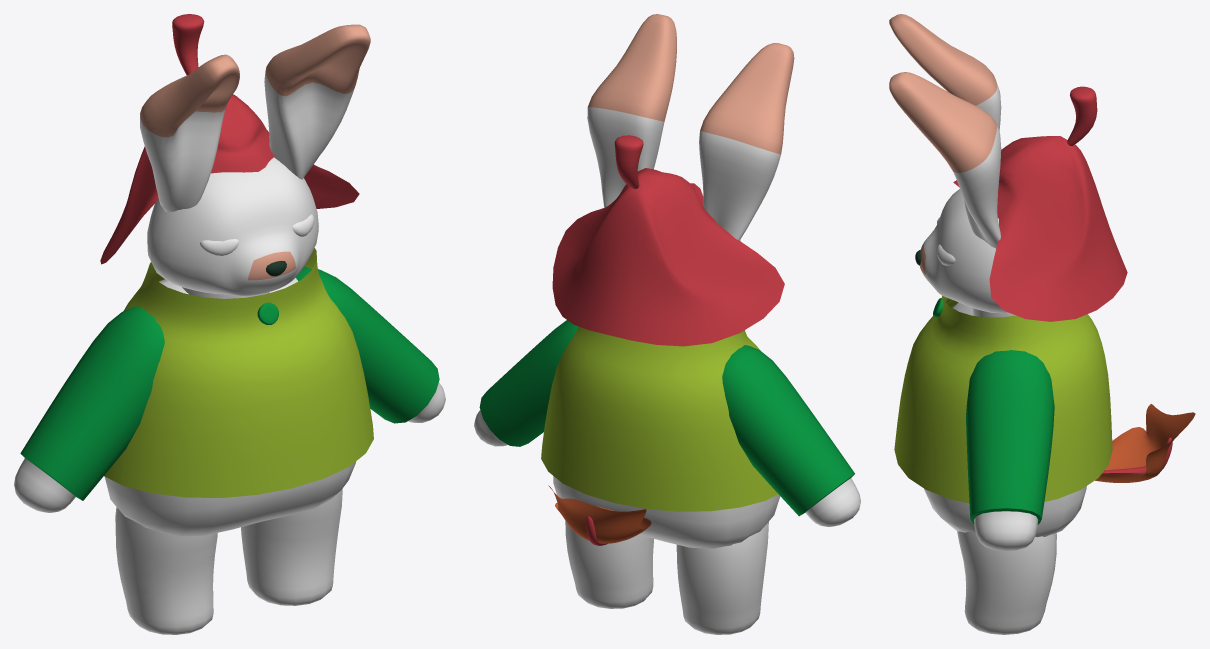
File: bully2_blockout.fbx
3 views of the same model, side by side, from view 1: azimuth 30°, elevation 25°; view 2: azimuth 150°, elevation 25°; view 3: azimuth 270°, elevation 25° (orthographic). The views are drawn at different scales.
Parts seen in each view (by area): view 1: dress1, pCube56, pCube49, pCube59, pCube50, pCube54, pCube61, pCube55, pCube52, pCylinder6, pCube36; view 2: dress1, pCylinder6, pCube56, pCube50, pCube59, pCube54, pCube61, pCube55, pCube52, pPlane9, pCube36; view 3: dress1, pCylinder6, pCube61, pCube59, pCube55, pCube49, pCube50, pPlane9, pCube52, pCube36.
Boxes of the visible parts, <box> form: dress1: <box>104,248,373,497</box>; pCube56: <box>14,306,164,512</box>; pCube49: <box>147,157,318,295</box>; pCube59: <box>264,24,370,179</box>; pCube50: <box>140,54,239,212</box>; pCube54: <box>115,507,217,634</box>; pCube61: <box>295,266,445,423</box>; pCube55: <box>241,489,342,605</box>; pCube52: <box>105,278,355,536</box>; pCylinder6: <box>100,94,359,264</box>; pCube36: <box>172,14,204,75</box>; dress1: <box>541,326,778,511</box>; pCylinder6: <box>552,168,784,346</box>; pCube56: <box>722,345,860,526</box>; pCube50: <box>699,43,794,240</box>; pCube59: <box>587,14,676,207</box>; pCube54: <box>676,522,768,634</box>; pCube61: <box>474,320,578,446</box>; pCube55: <box>565,521,653,608</box>; pCube52: <box>553,476,780,548</box>; pPlane9: <box>548,485,651,543</box>; pCube36: <box>614,135,643,189</box>; dress1: <box>894,295,1112,503</box>; pCylinder6: <box>953,136,1127,321</box>; pCube61: <box>966,350,1054,551</box>; pCube59: <box>889,72,1001,248</box>; pCube55: <box>957,531,1056,634</box>; pCube49: <box>920,189,1008,313</box>; pCube50: <box>889,14,1001,131</box>; pPlane9: <box>1095,404,1195,482</box>; pCube52: <box>924,302,1086,537</box>; pCube36: <box>1067,86,1097,145</box>.
Size of the model in its own units: 0.0462 by 0.0639 by 0.032.
